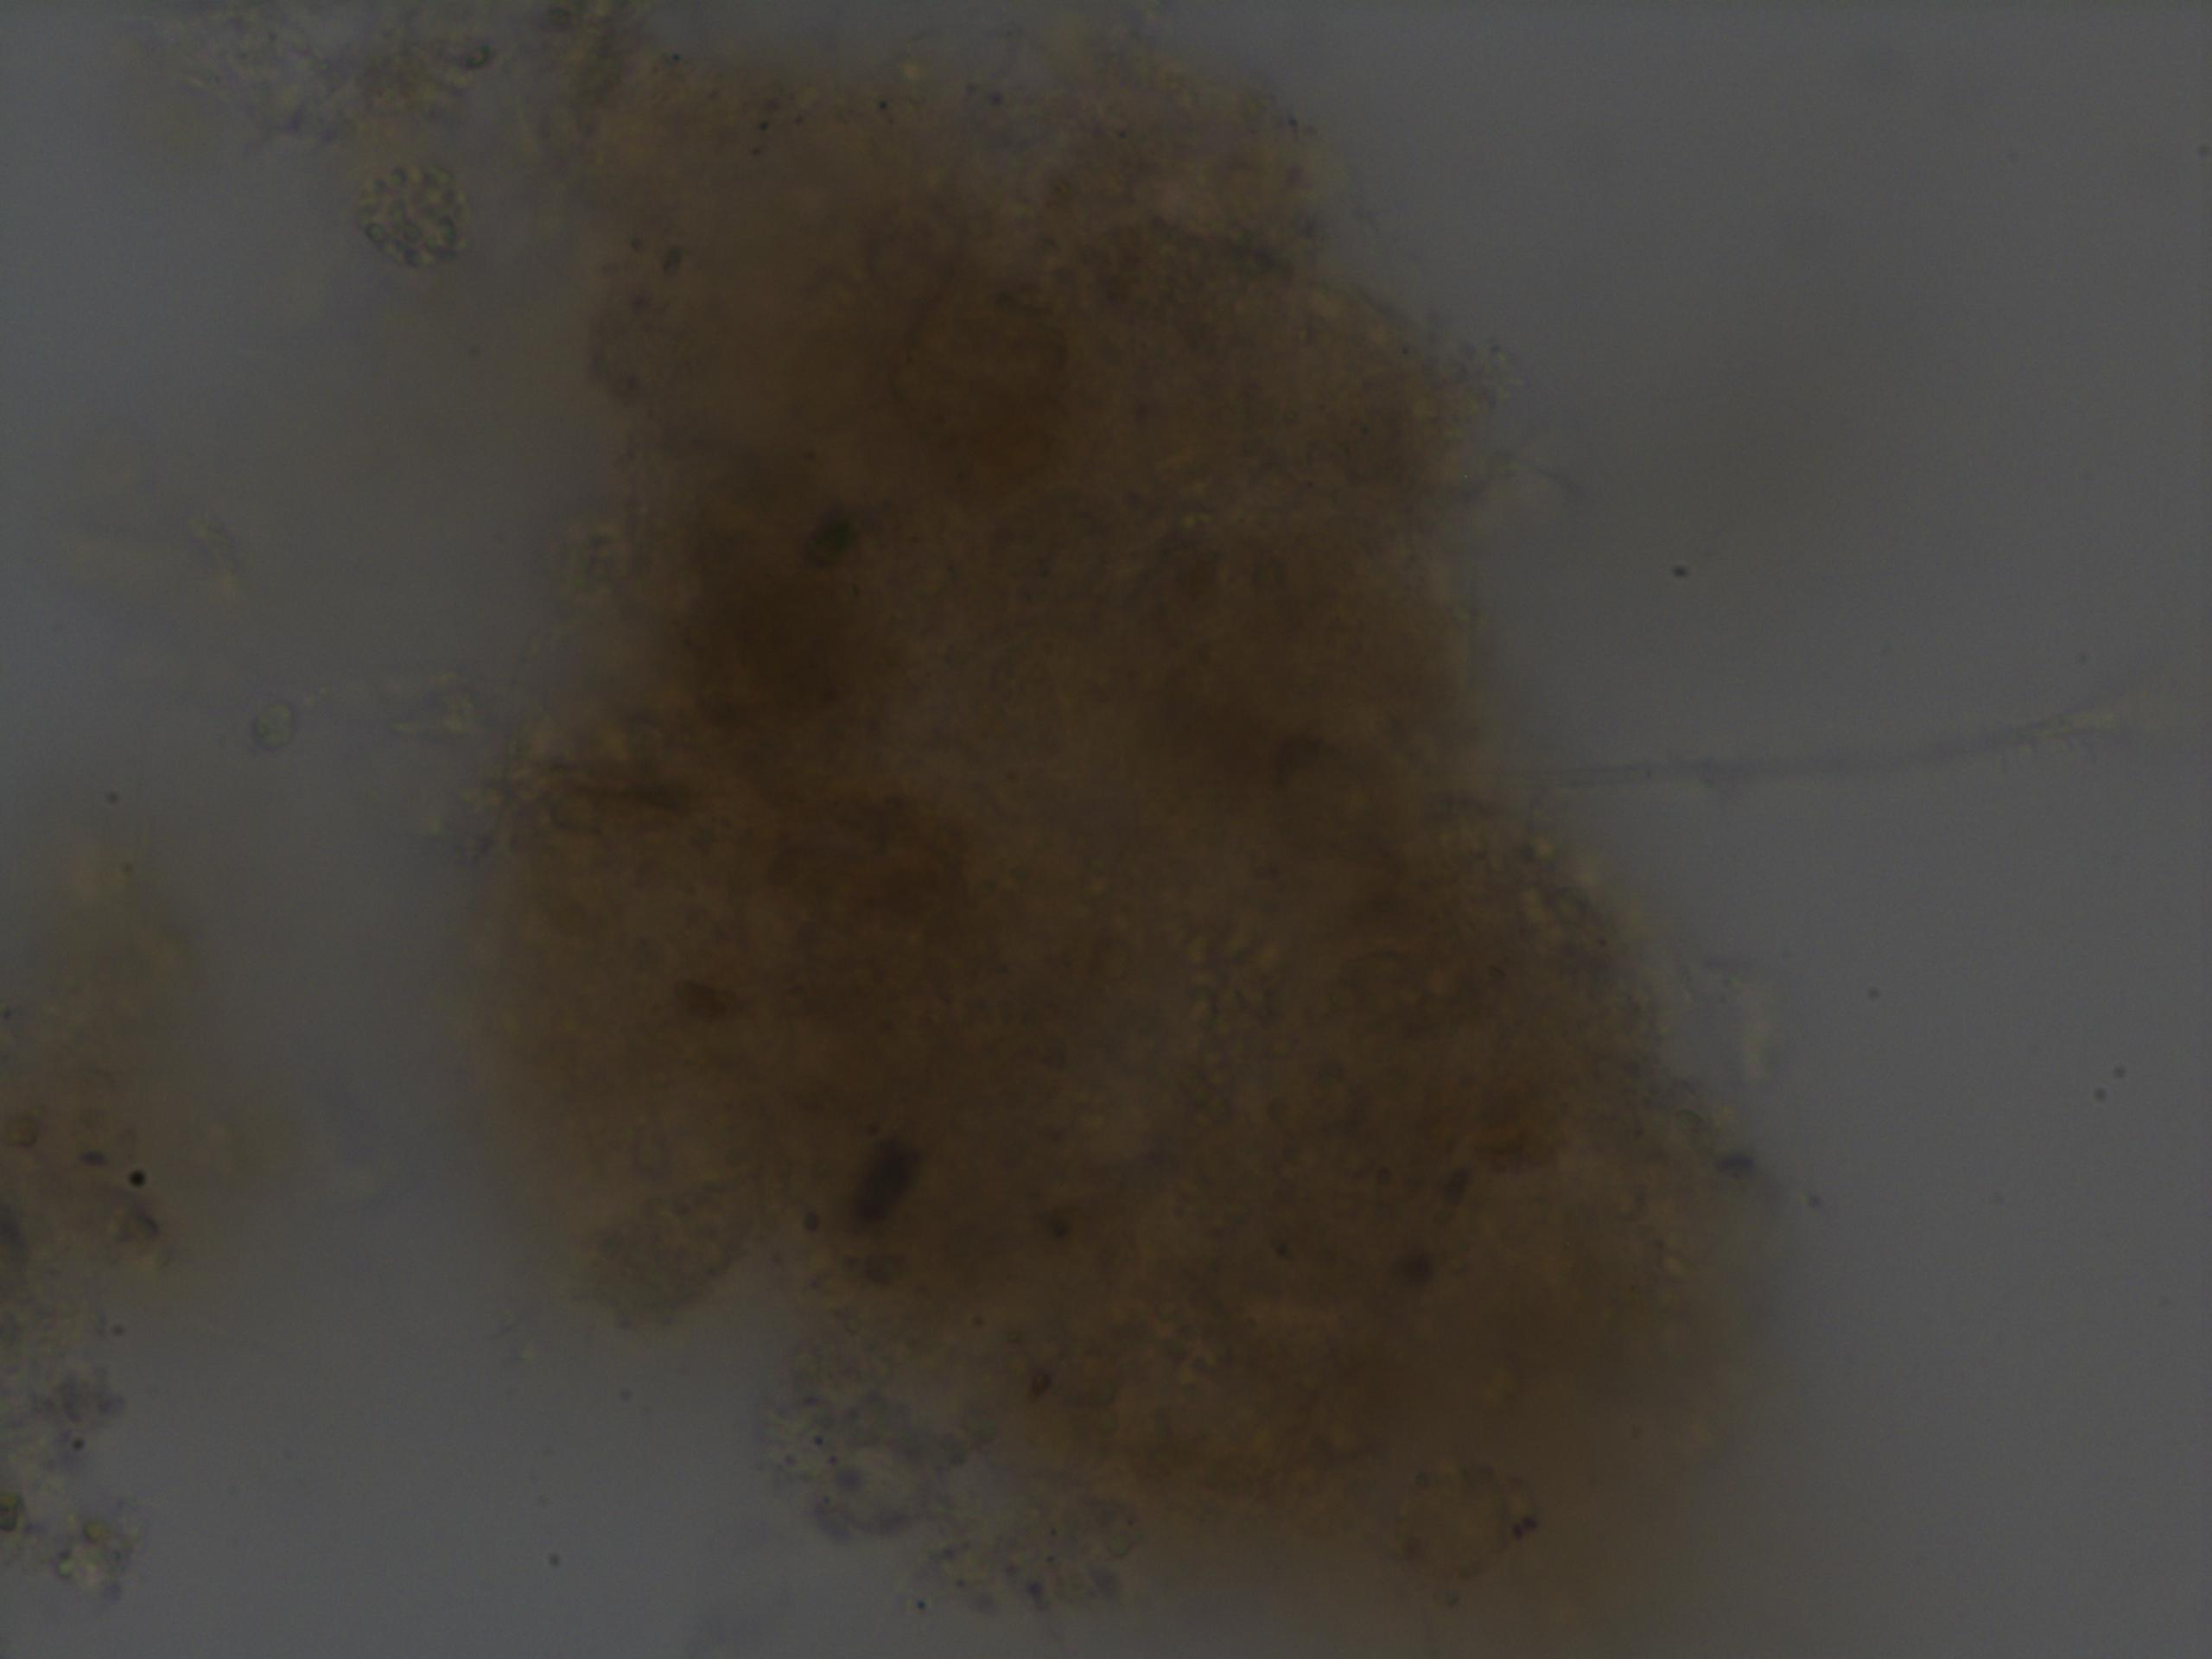filament: (1480, 662, 2212, 826)
spherical_floc: (462, 24, 1759, 1659)
